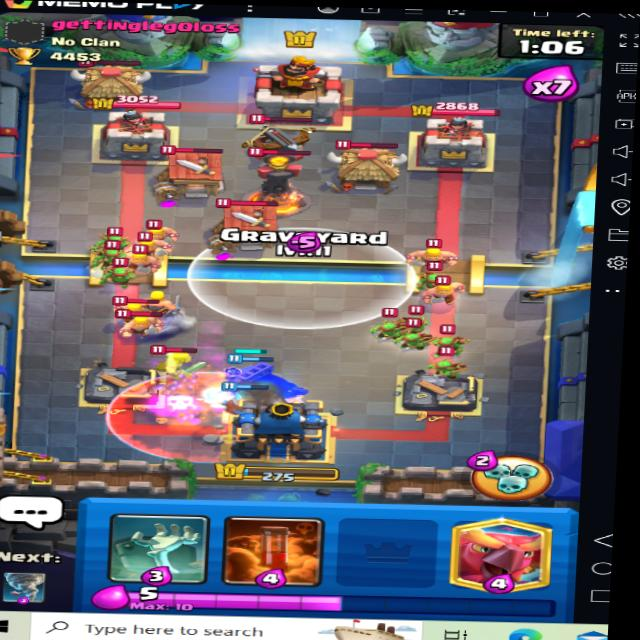barbarian: (114, 245, 172, 274), (149, 344, 196, 375), (404, 234, 453, 262), (114, 294, 162, 320), (421, 277, 466, 303), (137, 217, 178, 242), (129, 233, 170, 254), (122, 313, 166, 331)
barbarian-hut: (208, 197, 291, 248), (153, 142, 230, 196)
goblin-hut: (325, 137, 412, 196), (70, 54, 148, 106)
inferno-tower: (245, 145, 317, 214)
spear-goblin: (432, 348, 470, 378), (433, 320, 466, 352), (400, 321, 435, 350), (399, 310, 440, 331), (419, 260, 449, 287), (96, 239, 126, 264), (98, 225, 127, 250), (105, 259, 135, 283), (369, 315, 399, 338)
x-bow: (228, 106, 322, 166)
